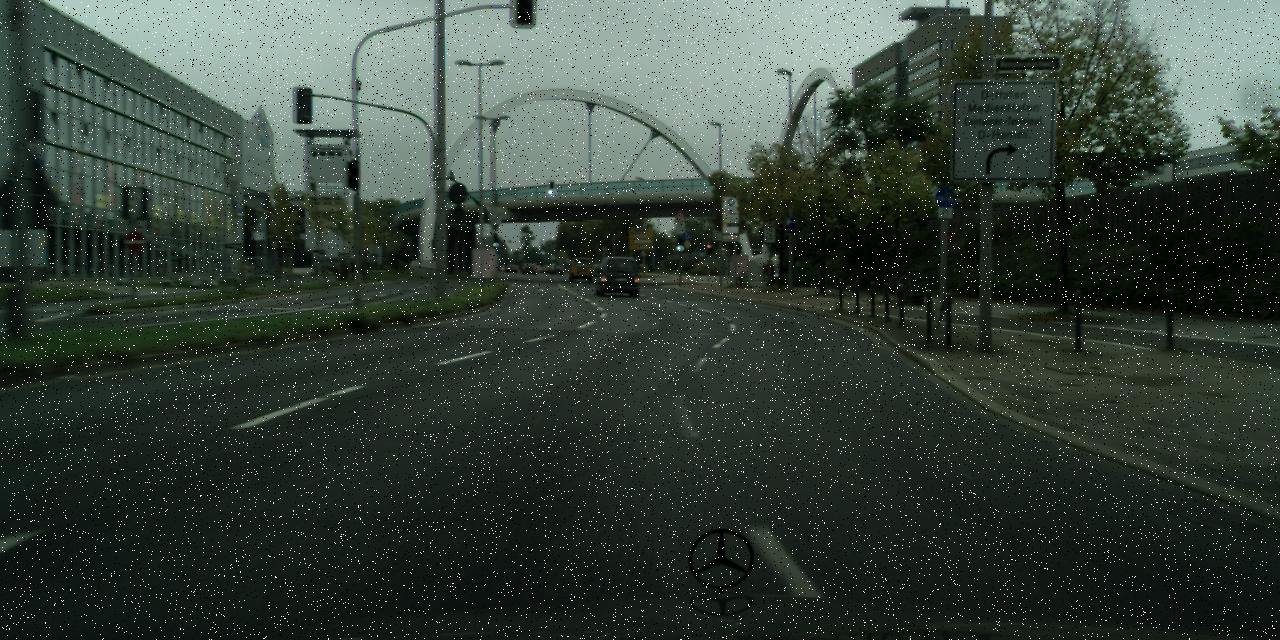ped: (762, 259, 774, 287)
